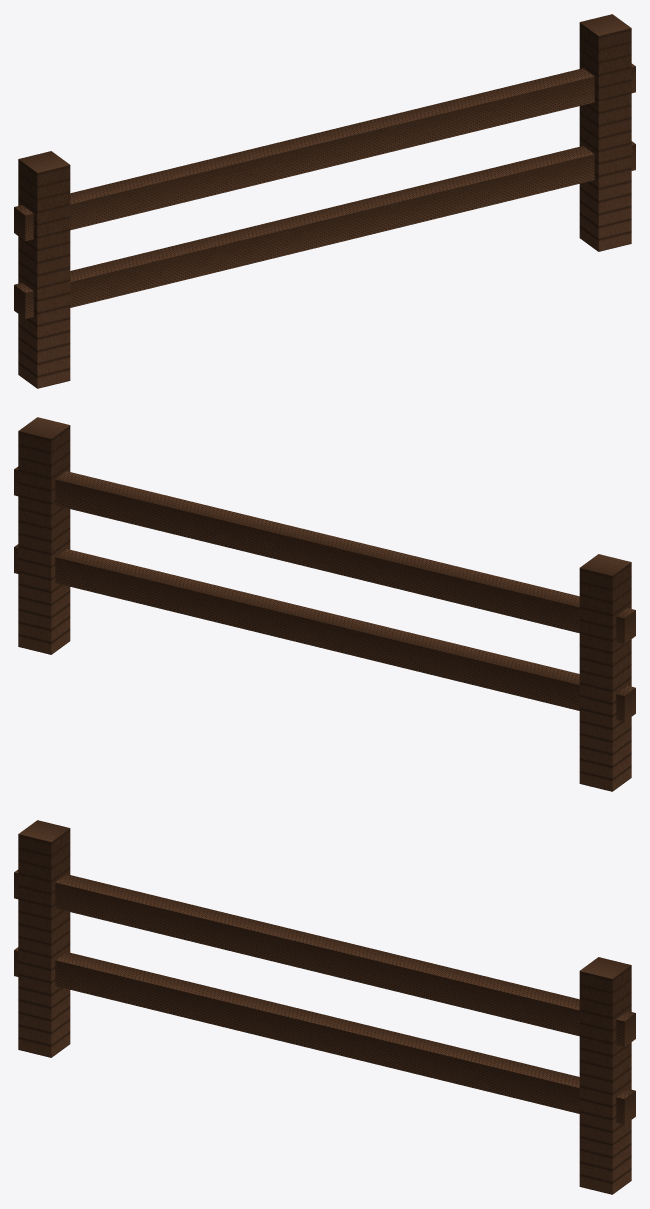
File: fence_wood.gltf
3 renders of one model, top to bottom at view 1: azimuth 30°, elevation 25°; view 2: azimuth 150°, elevation 25°; view 3: azimuth 330°, elevation 25°, orthographic.
Visible parts, largest first — view 1: fence_wood; view 2: fence_wood; view 3: fence_wood.
Boxes of the visible parts, <box> form: fence_wood: <box>14,14,635,388</box>; fence_wood: <box>14,417,635,791</box>; fence_wood: <box>14,820,635,1194</box>.
Bounding box in the file's own units: 3.7 × 1.25 × 0.2.
Materials: 1 (1 with a texture image).
